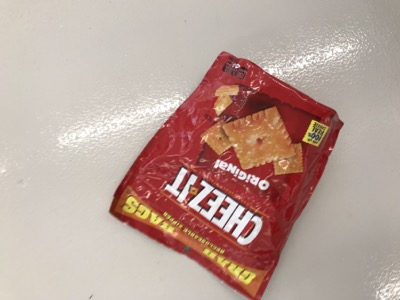cheez-it: (107, 51, 346, 300)
